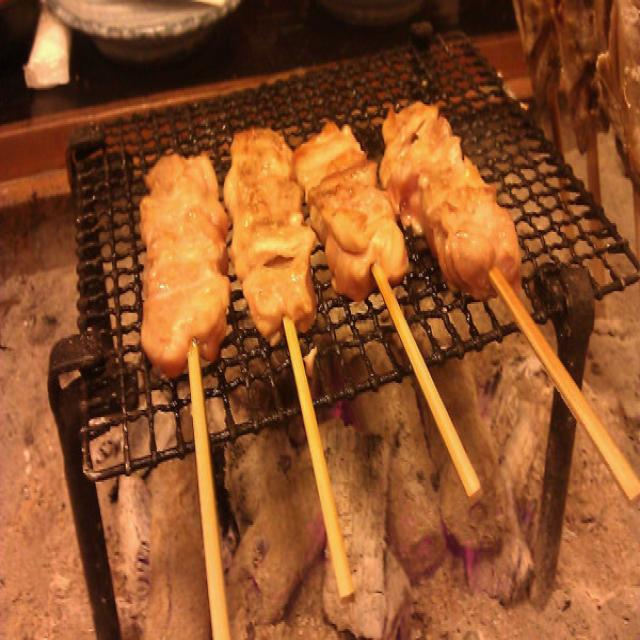烧串烤肉: (144, 101, 611, 598)
